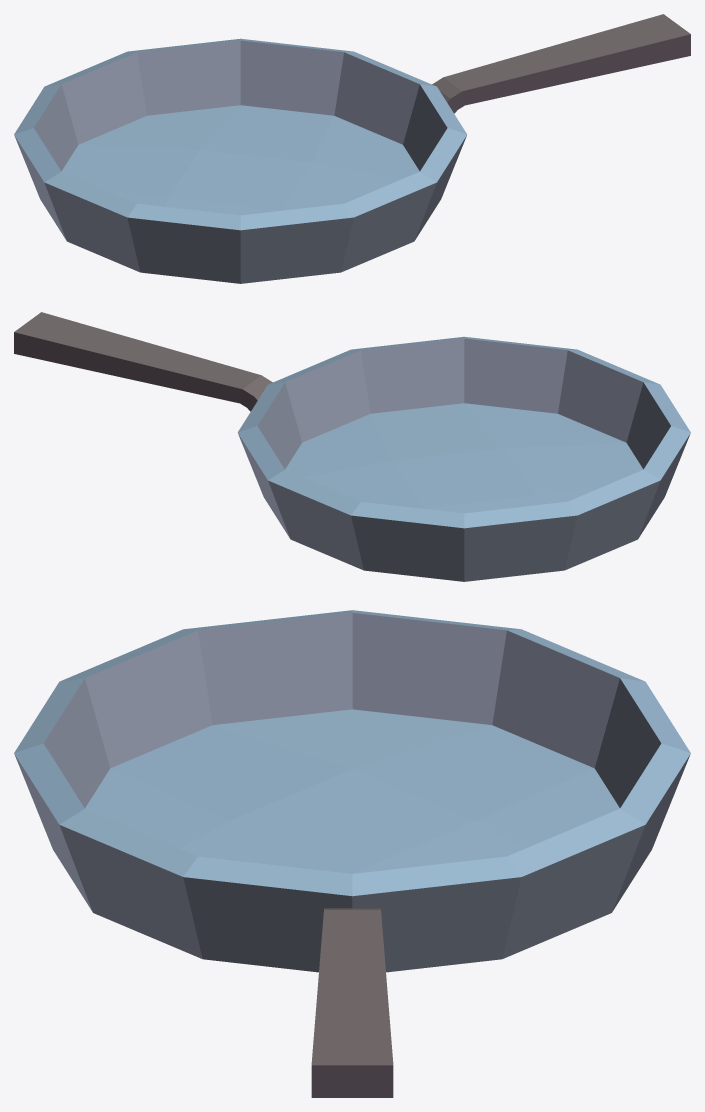
Rendered from Cooking Pan.fbx.
3 renders of one model, top to bottom at view 1: azimuth 30°, elevation 25°; view 2: azimuth 150°, elevation 25°; view 3: azimuth 270°, elevation 25°, orthographic. The views are drawn at different scales.
Parts seen in each view (by area): view 1: Cooking Pan; view 2: Cooking Pan; view 3: Cooking Pan.
Part boxes in pixels (x1=…): Cooking Pan: x1=14, y1=14, x2=690, y2=283; Cooking Pan: x1=14, y1=312, x2=690, y2=581; Cooking Pan: x1=14, y1=610, x2=690, y2=1097.
Bounding box in the file's own units: 104 × 11.18 × 64.54.
